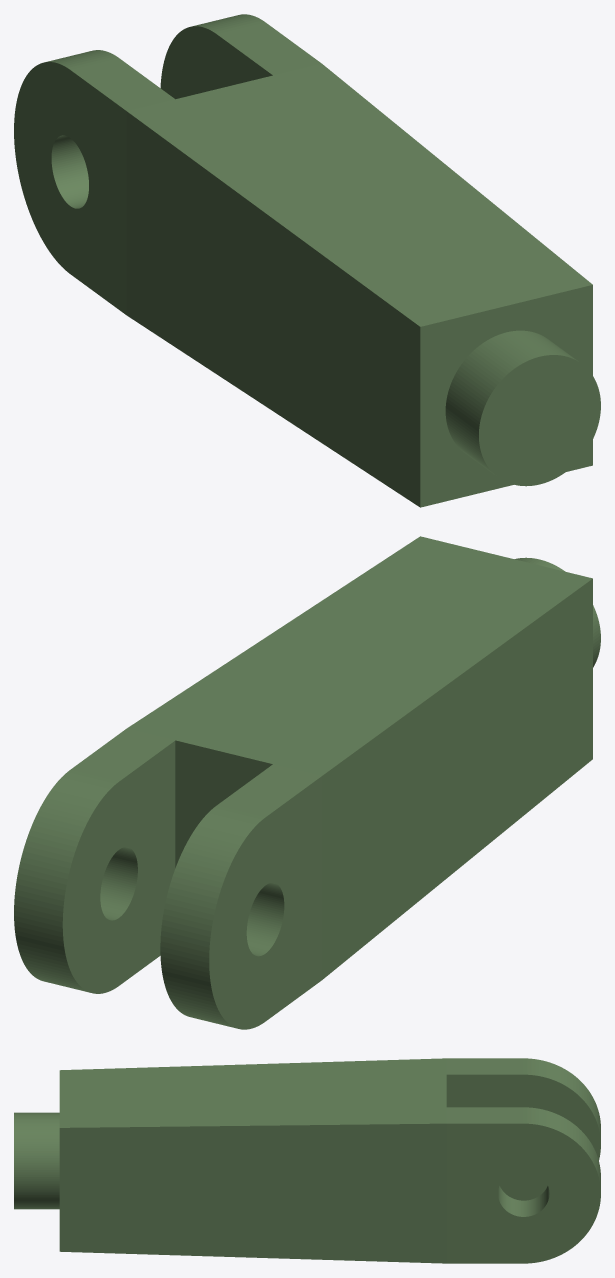
The picture shows the model from 3 angles, top to bottom: view 1: azimuth 30°, elevation 25°; view 2: azimuth 150°, elevation 25°; view 3: azimuth 270°, elevation 25°; orthographic projection. The views are drawn at different scales.
Parts seen in each view (by area): view 1: node; view 2: node; view 3: node.
Boxes of the visible parts, box(x1,y1,x2,y2) form: node: box(14, 14, 600, 507); node: box(14, 536, 600, 1029); node: box(14, 1058, 600, 1263).
Bounding box in the file's own units: 0.0998 × 0.0998 × 0.3792.
